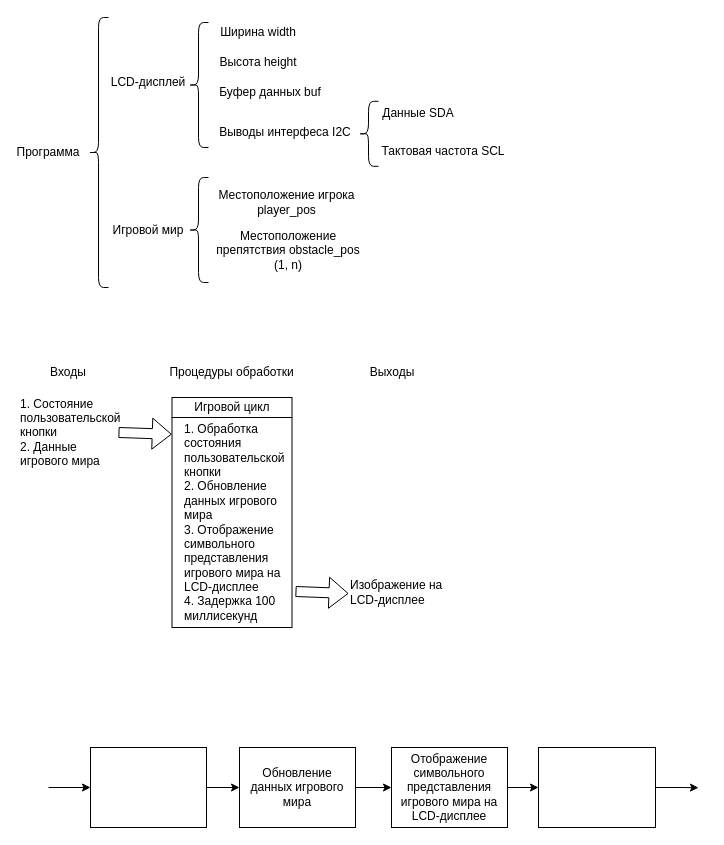
This 724x845 diagram has some shape labels left out. Here are the shapes that lost their labels. From the top down, the centre of each, then its label:
point (148, 787): Обработка состояния пользовательской кнопки
point (597, 787): Задержка 100 миллисекунд
